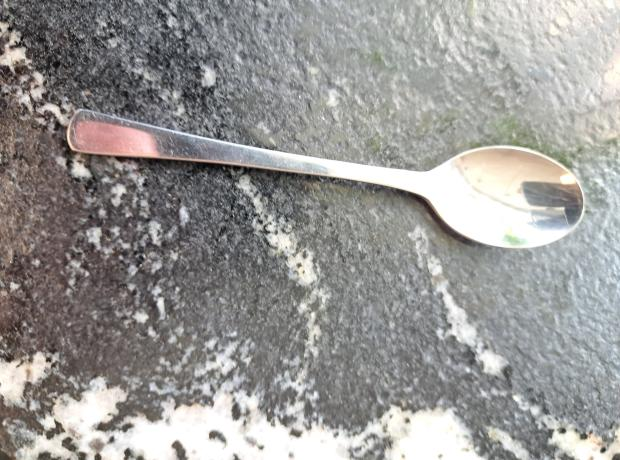metal: (59, 110, 587, 250)
